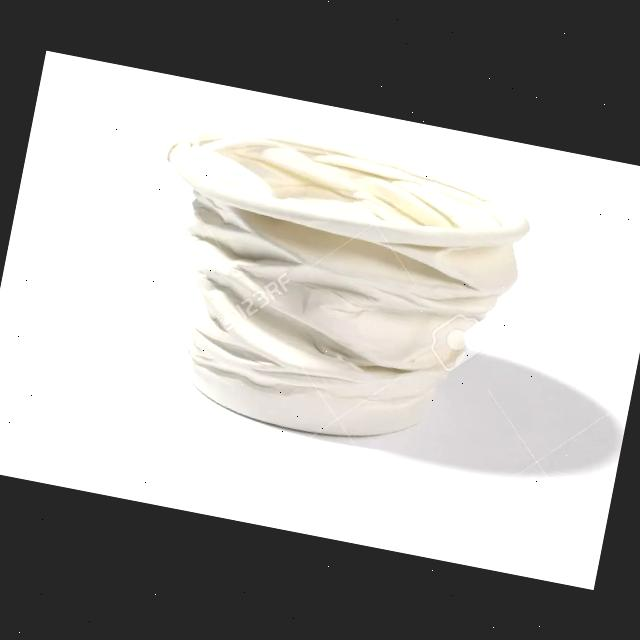trash: (114, 109, 546, 468)
